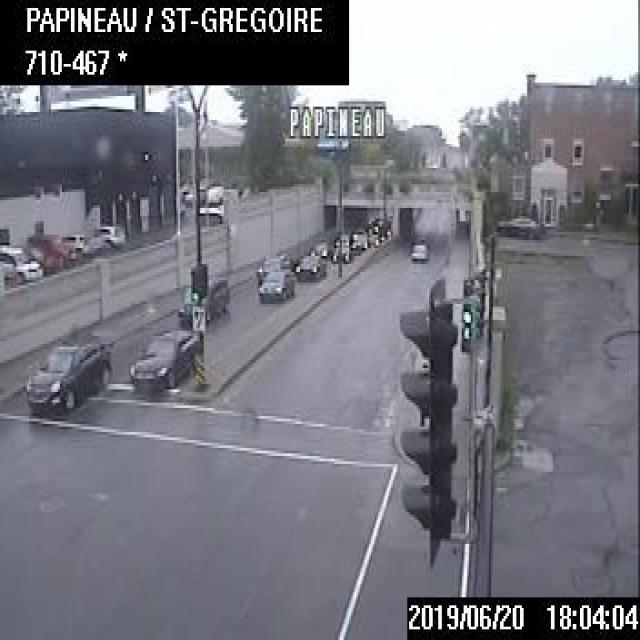vehicle: (23, 333, 112, 408), (129, 328, 195, 384), (175, 272, 229, 326), (0, 240, 44, 280), (493, 212, 548, 240), (27, 234, 74, 265), (255, 264, 295, 298), (86, 223, 125, 255), (255, 251, 290, 282), (55, 229, 89, 259), (294, 249, 324, 280), (330, 238, 350, 262), (309, 236, 328, 257), (409, 238, 426, 258)
